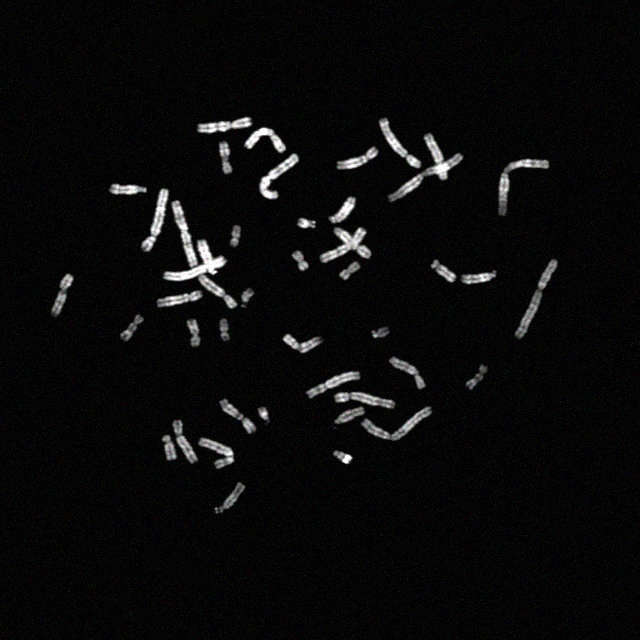chromosome: (390, 154, 462, 202), (516, 258, 558, 339), (498, 159, 550, 215), (363, 407, 433, 441), (380, 116, 420, 168), (260, 154, 298, 200), (141, 188, 169, 250), (172, 200, 198, 266), (320, 228, 366, 264), (164, 254, 226, 280), (306, 370, 359, 400), (220, 398, 256, 434), (199, 274, 237, 308), (424, 132, 448, 180), (172, 419, 198, 463), (334, 228, 372, 258), (244, 128, 286, 154), (199, 437, 233, 469), (389, 358, 425, 388), (334, 392, 394, 410), (337, 147, 379, 171), (51, 274, 73, 316), (215, 484, 245, 514), (198, 116, 252, 132), (283, 334, 321, 354), (328, 197, 356, 223), (158, 291, 202, 307), (199, 239, 217, 275), (120, 314, 144, 340), (334, 406, 364, 424), (431, 260, 455, 282), (466, 365, 486, 389), (110, 183, 148, 194), (220, 142, 232, 174), (187, 318, 200, 346), (462, 274, 498, 284), (341, 262, 361, 280), (162, 436, 175, 460), (294, 250, 308, 270), (230, 226, 242, 248), (333, 450, 351, 464), (219, 319, 229, 341), (298, 218, 316, 230), (258, 406, 270, 424), (372, 327, 388, 338), (242, 288, 254, 302)
